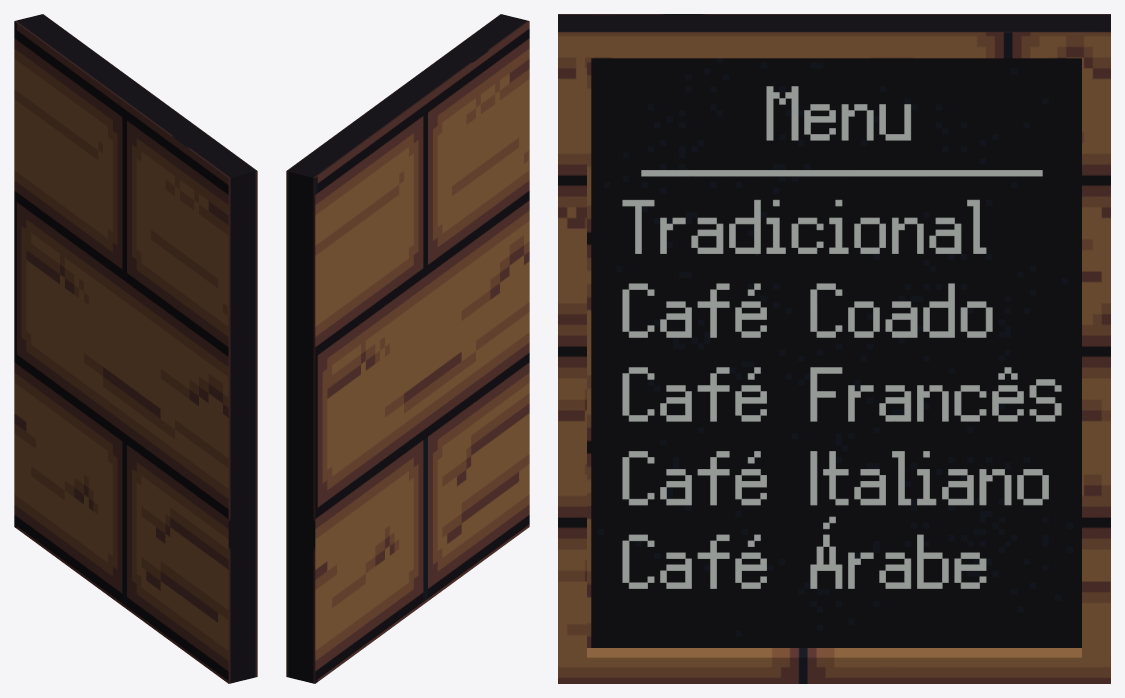
Rendered from quadropronto.fbx.
3 renders of one model, left to right at view 1: azimuth 30°, elevation 25°; view 2: azimuth 150°, elevation 25°; view 3: azimuth 270°, elevation 25°, orthographic. The views are drawn at different scales.
Visible parts, largest first — view 1: Moldura; view 2: Moldura; view 3: Quadro, Moldura.
Boxes of the visible parts, x1,y1,x2,y2 form: Moldura: (14,14,257,683); Moldura: (286,14,529,683); Quadro: (591,58,1081,647); Moldura: (558,14,1110,683).
Size of the model in its own units: 36.42 by 608 by 467.
Materials: 2 (2 with a texture image).
